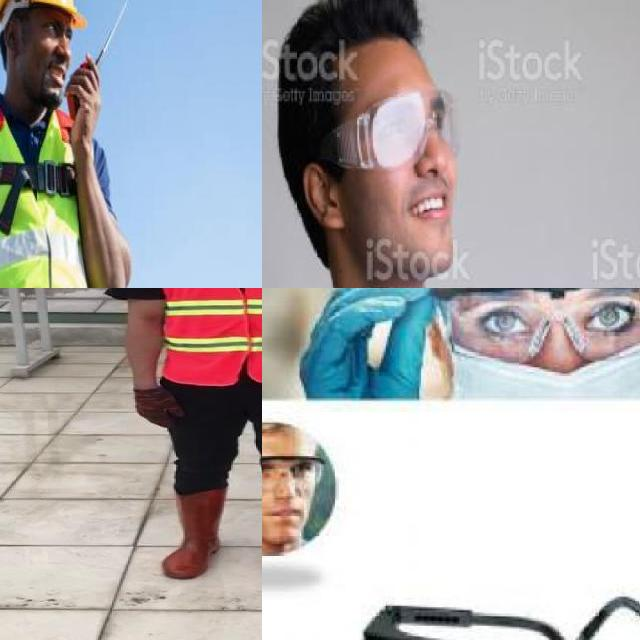Harness: (0, 162, 77, 235)
No_Ear-Protection: (301, 164, 344, 232)
boots: (162, 488, 232, 577)
face_nomask: (371, 96, 466, 241), (262, 458, 319, 532)
glasses: (426, 288, 640, 367), (306, 85, 461, 182), (262, 451, 329, 495)
hand_glove: (295, 288, 435, 402)
head_nohelmet: (286, 0, 427, 85)
person: (262, 0, 613, 288), (104, 288, 262, 582)
vest: (153, 288, 262, 387)
